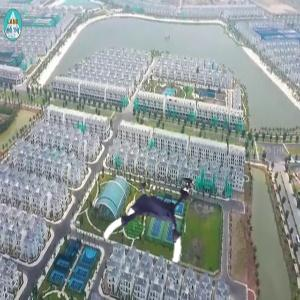drone: (104, 175, 193, 264)
